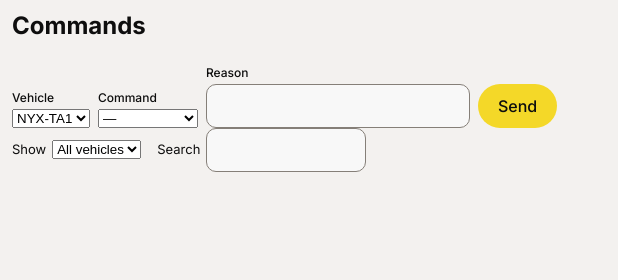
Scenario: a failing list refresh is logged, not fatal
Select "NYX-TA1" in the dropdown labelled "Vehicle" at (51, 118), box [12, 109, 90, 128]
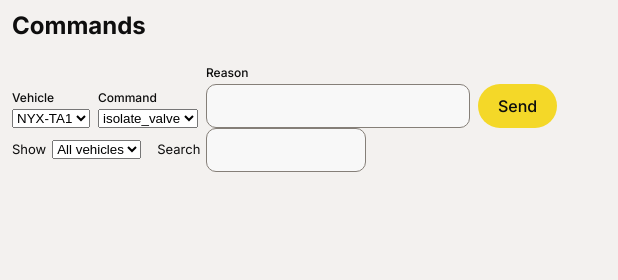
Select "isolate_valve" in the dropdown labelled "Command" at (148, 118), box [98, 109, 198, 128]
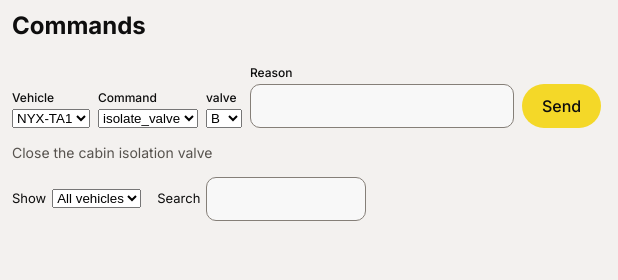
Select "B" in the dropdown labelled "valve" at (224, 118), box [206, 109, 242, 128]
Click the button "Send" at (562, 106), box [522, 84, 601, 128]
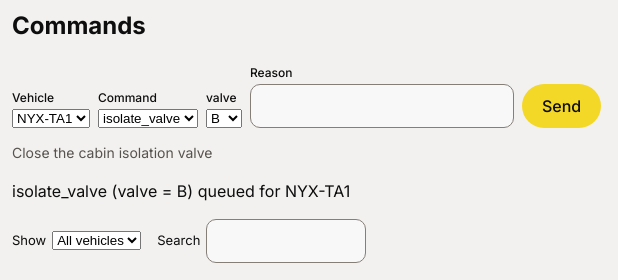
Expected: the message "isolate_valve (valve = B) queued for NYX-TA1" is shown, [12, 181, 350, 201]
